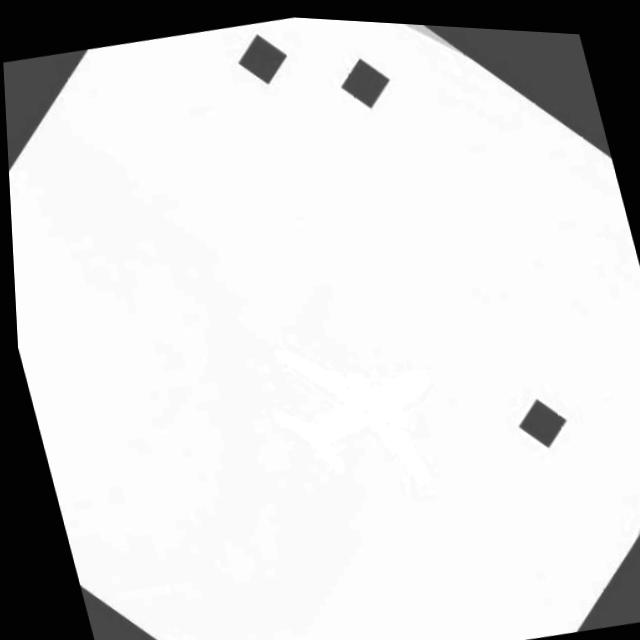aeroplane: (216, 261, 494, 541)
